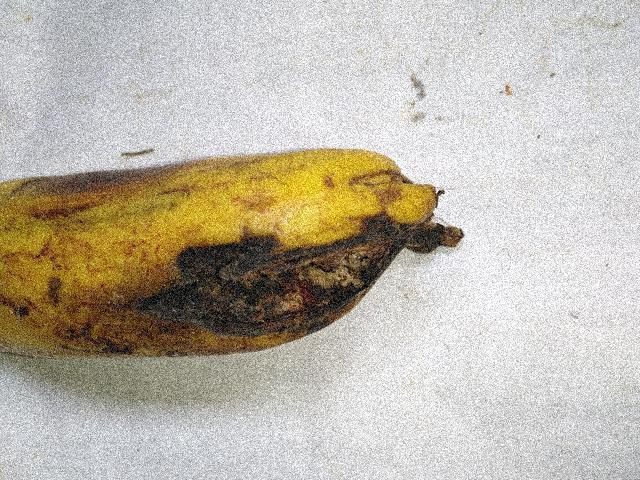rotten: (90, 163, 468, 406), (0, 96, 210, 223)
